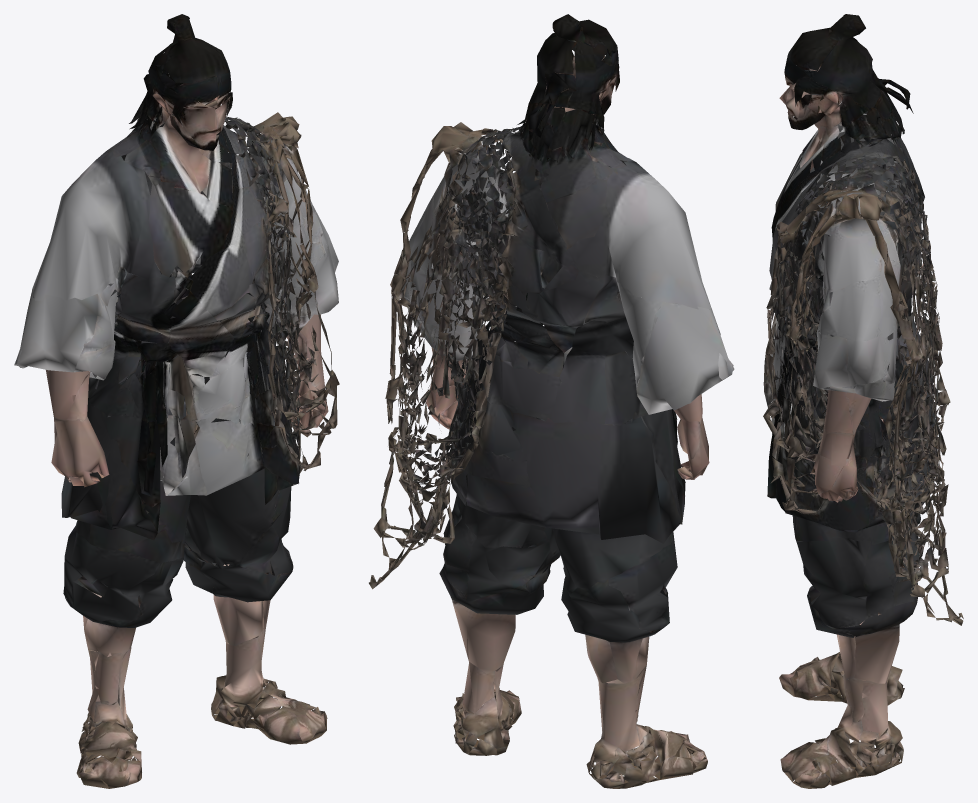
Rendered from fisher2.glb.
3 renders of one model, left to right at view 1: azimuth 30°, elevation 25°; view 2: azimuth 150°, elevation 25°; view 3: azimuth 270°, elevation 25°, orthographic. The views are drawn at different scales.
Parts seen in each view (by area): view 1: Mesh_0; view 2: Mesh_0; view 3: Mesh_0.
Part boxes in pixels (x1=…): Mesh_0: x1=14, y1=14, x2=339, y2=788; Mesh_0: x1=369, y1=14, x2=734, y2=788; Mesh_0: x1=763, y1=14, x2=963, y2=788.
Size of the model in its own units: 0.4669 by 0.9998 by 0.2545.
1 material, 1 textured.
